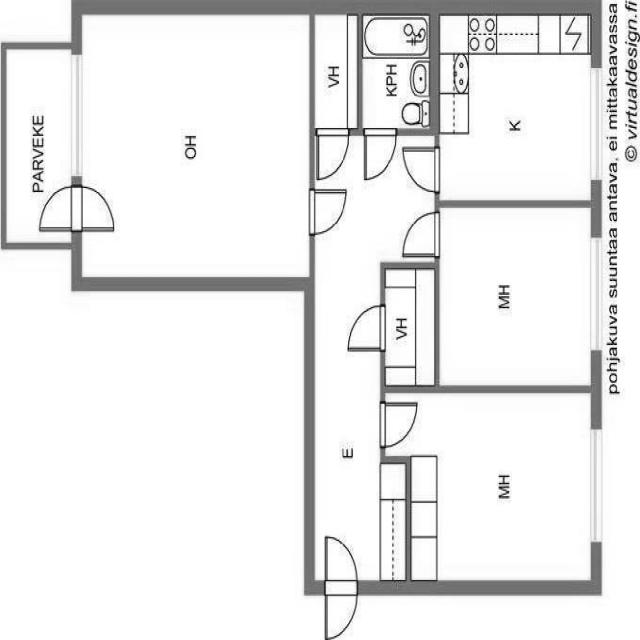door: (436, 203, 595, 388), (383, 264, 437, 389), (322, 530, 361, 640), (401, 140, 445, 195), (360, 127, 401, 185), (343, 300, 387, 354), (312, 127, 352, 185), (76, 181, 121, 231), (307, 185, 350, 237), (398, 208, 441, 260), (36, 182, 79, 231)
window: (63, 46, 91, 186), (583, 420, 609, 550), (582, 228, 606, 356), (584, 60, 605, 186)
zone: (80, 7, 308, 278), (381, 386, 599, 588), (433, 200, 596, 389), (437, 14, 596, 206), (361, 9, 435, 134), (382, 265, 437, 389), (378, 398, 421, 452), (35, 182, 79, 232)
